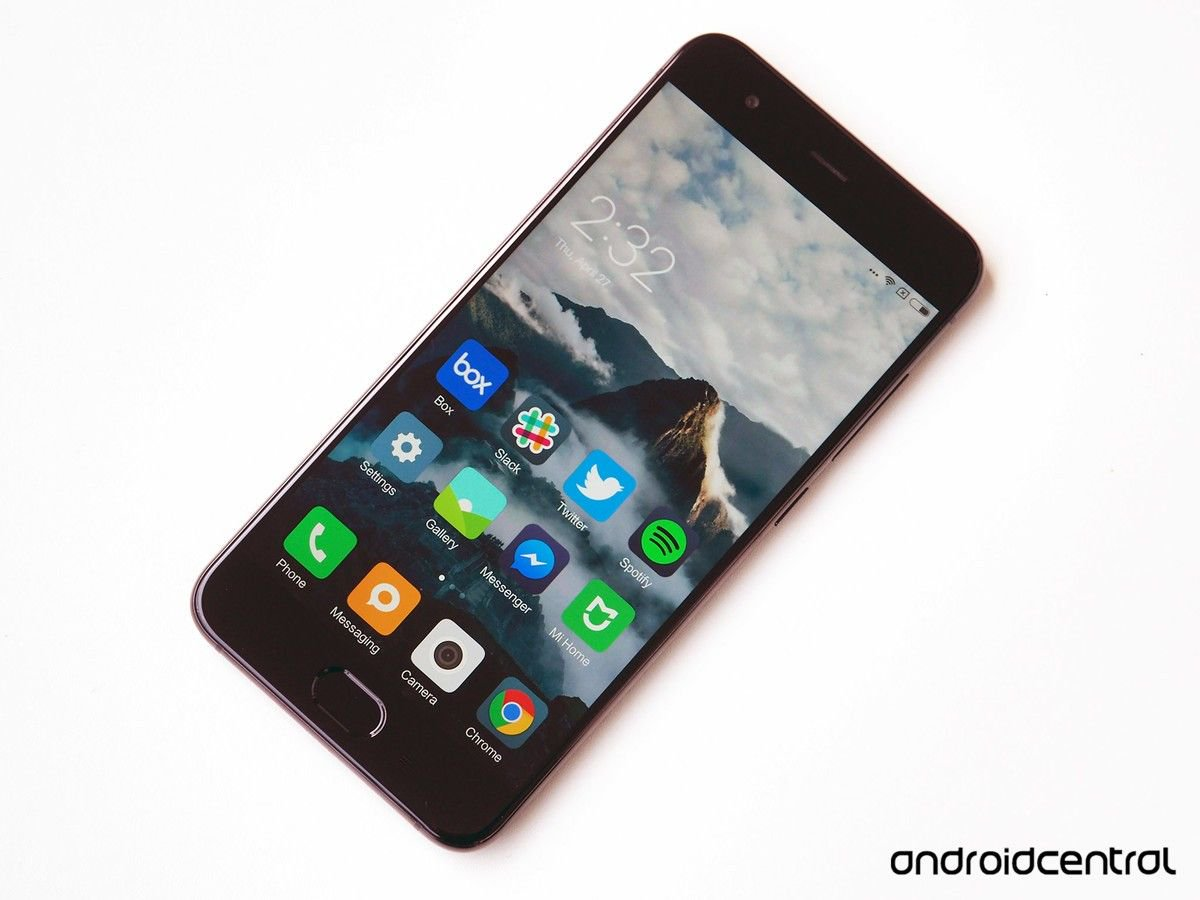smartphone: (190, 32, 986, 850)
